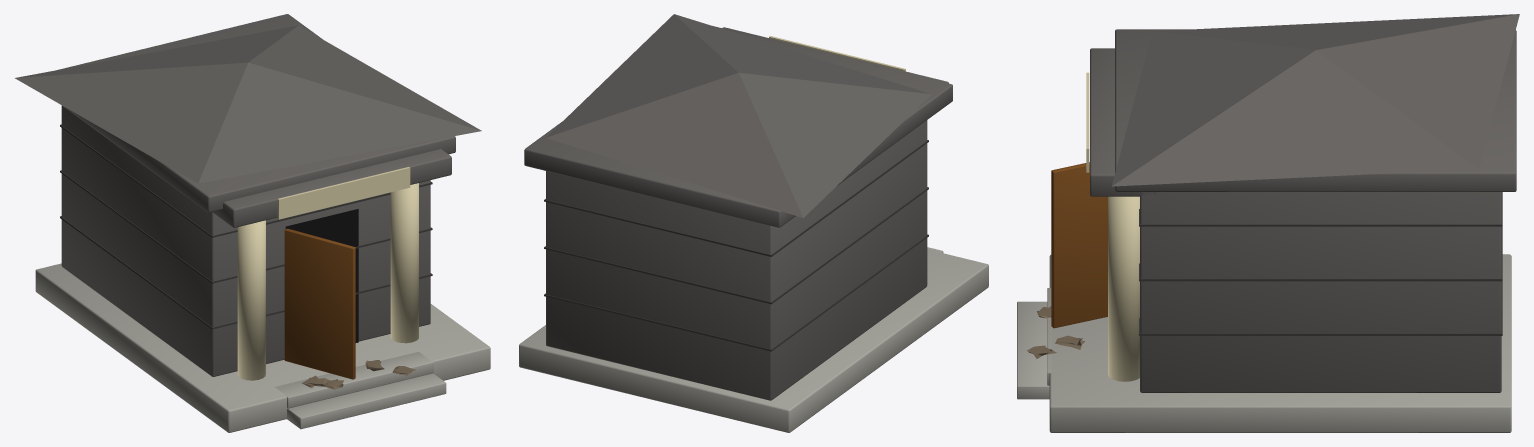
The model's file is graveyard_mausoleum.glb.
3 renders of one model, left to right at view 1: azimuth 30°, elevation 25°; view 2: azimuth 150°, elevation 25°; view 3: azimuth 270°, elevation 25°, orthographic. The views are drawn at different scales.
Visible parts, largest first — view 1: roof, walls, plinth, door, cornice, column_-1.05, column_1.05, portico, step_1, step_0, name_band, doorway (+3 smaller); view 2: walls, roof, plinth, cornice, course_0.95, course_1.55, course_2.15, portico, name_band; view 3: walls, roof, plinth, cornice, door, column_1.05, portico, step_1, course_1.55, course_0.95, course_2.15.
Boxes of the visible parts, x1,y1,x2,y2 form: roof: (15,25,481,183); walls: (61,105,430,376); plinth: (35,263,490,432); door: (284,228,355,379); cornice: (58,14,455,212); column_-1.05: (237,220,265,380); column_1.05: (390,183,418,343); portico: (212,149,451,227); step_1: (287,373,446,429); step_0: (275,351,433,408); name_band: (277,167,410,219); doorway: (285,209,358,342); walls: (546,120,927,400); roof: (546,14,931,217); plinth: (519,249,988,432); cornice: (524,26,952,227); course_0.95: (544,234,928,351); course_1.55: (544,187,928,304); course_2.15: (544,140,928,256); portico: (722,27,948,83); name_band: (769,36,905,71); walls: (1140,192,1501,392); roof: (1111,14,1519,186); plinth: (1049,254,1511,432); cornice: (1115,29,1516,191); door: (1051,162,1107,328); column_1.05: (1108,196,1139,381); portico: (1090,48,1156,196); step_1: (1017,301,1049,399); course_1.55: (1139,226,1502,281); course_0.95: (1139,281,1502,335); course_2.15: (1139,192,1502,226).
Size of the model in its own units: 4.07 by 3.37 by 5.01.
